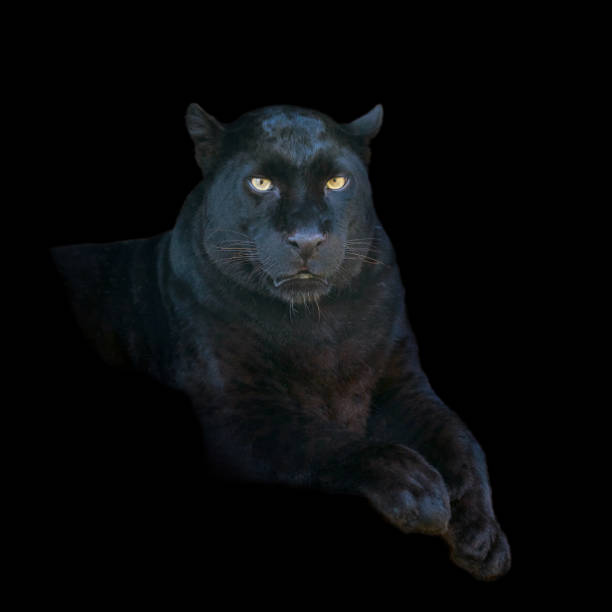panther: (176, 85, 412, 321)
